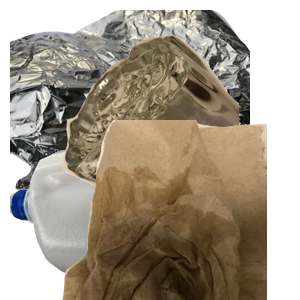glass: (60, 33, 300, 213)
metal: (10, 10, 250, 190)
plastic: (10, 120, 250, 300)
trash: (60, 120, 300, 300)
